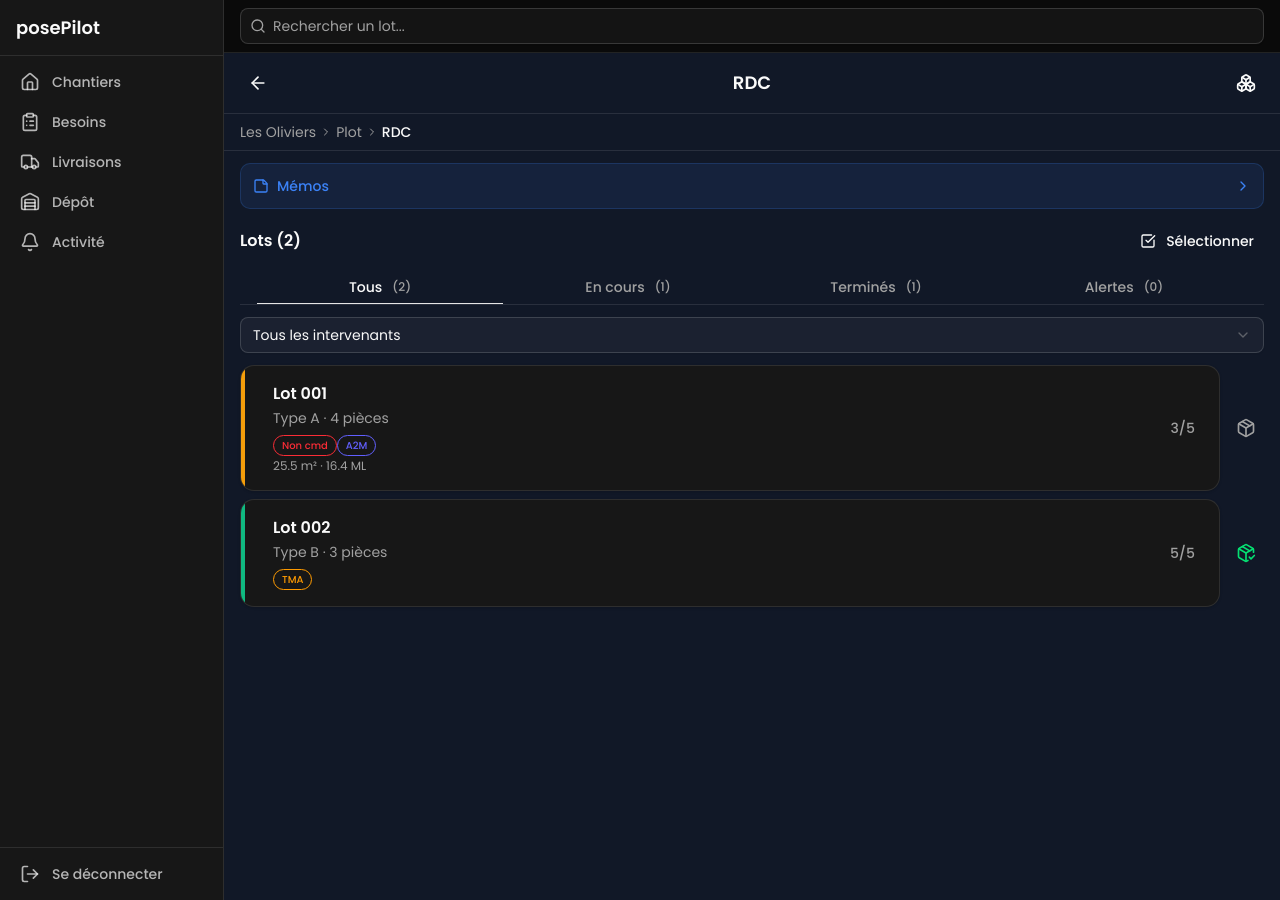
Test: EtageIndexPage — Intervenant filter (AC #6) › shows only unassigned lots with "Non assigné" filter
The image size is (1280, 900).
Expected: the text "Lot 001" is shown, [273, 382, 327, 406]
Click the dropdown named "Filtrer par intervenant".
click(327, 335)  # box [240, 317, 1264, 353]
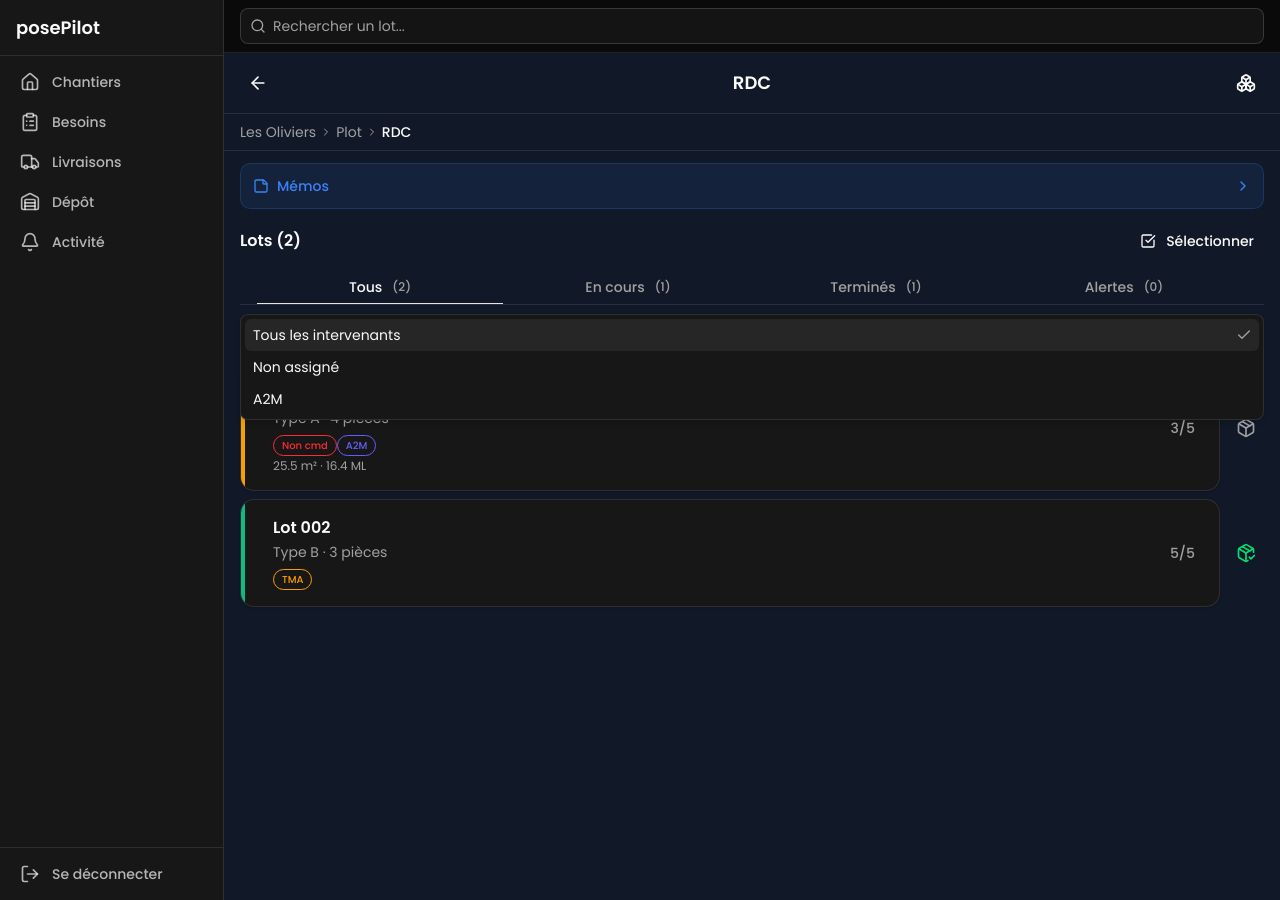
Click the option "Non assigné".
click(296, 367)  # box [253, 357, 339, 377]
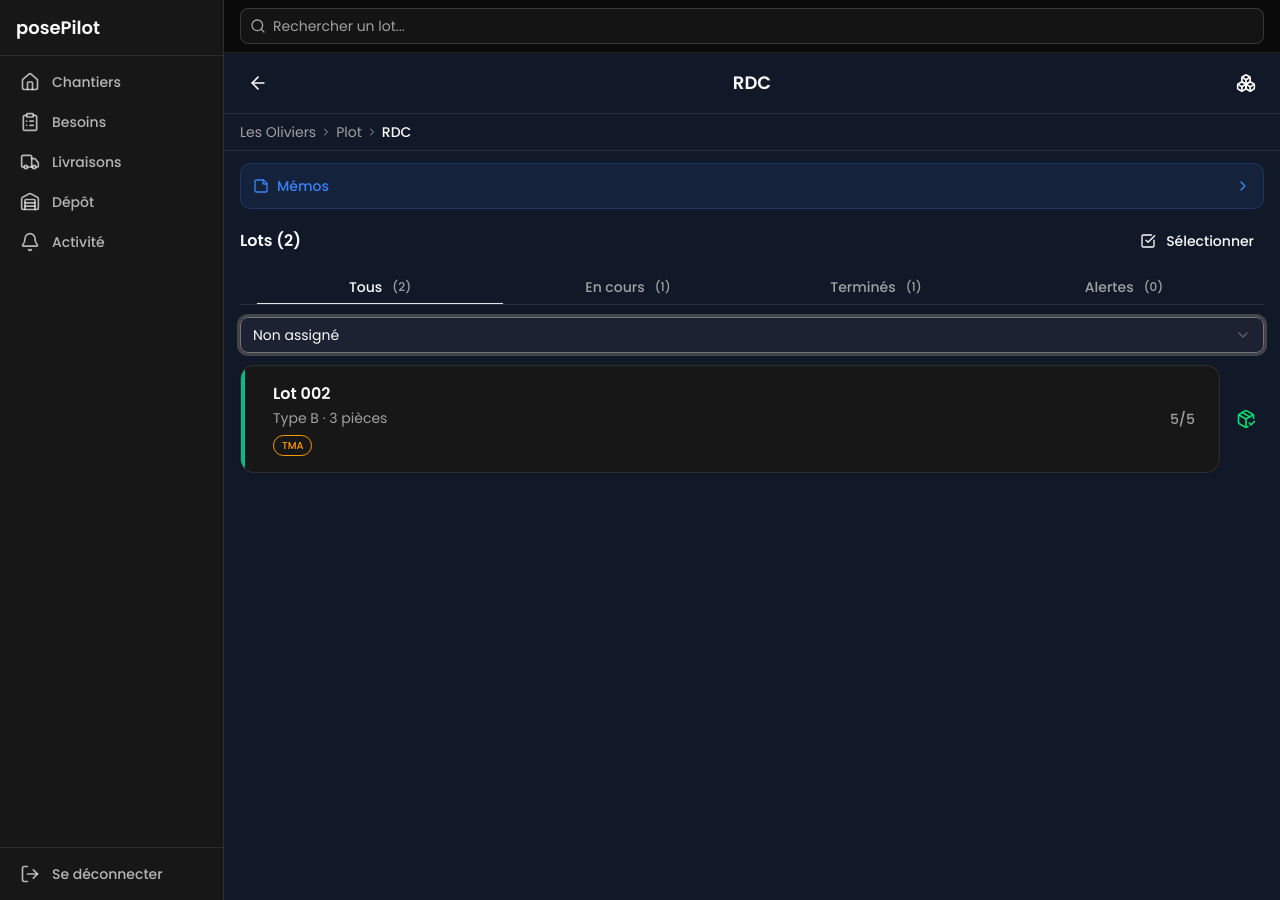
Expected: the text "Lot 002" is shown, [273, 382, 330, 406]
Expected: the text "Lot 001" is gone
